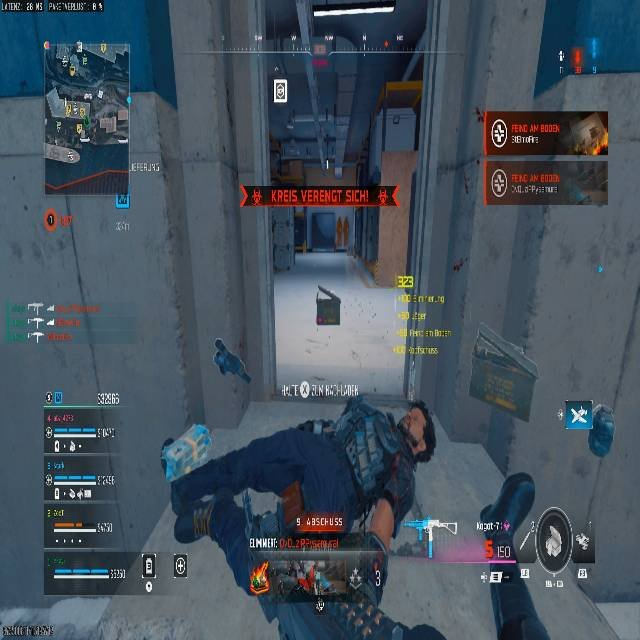head: (396, 399, 437, 464)
player: (160, 395, 442, 637)
